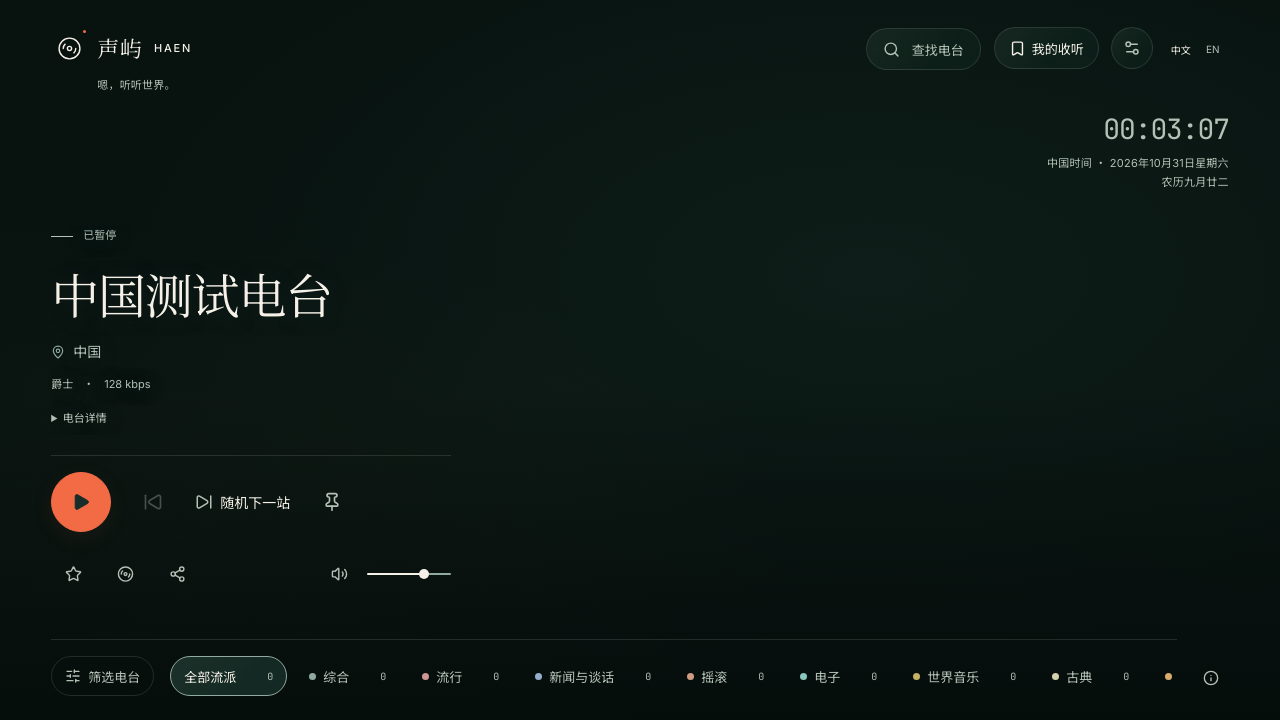
Test: radio application entry › preselects a random China station on a fresh entry without autoplay, including strict replay
Expected: the heading "中国测试电台" is shown, [51,259,332,328]
Expected: the message reads "已暂停", [83,228,116,242]
Click the button named "播放" at (81,502), box [51,472,111,532]
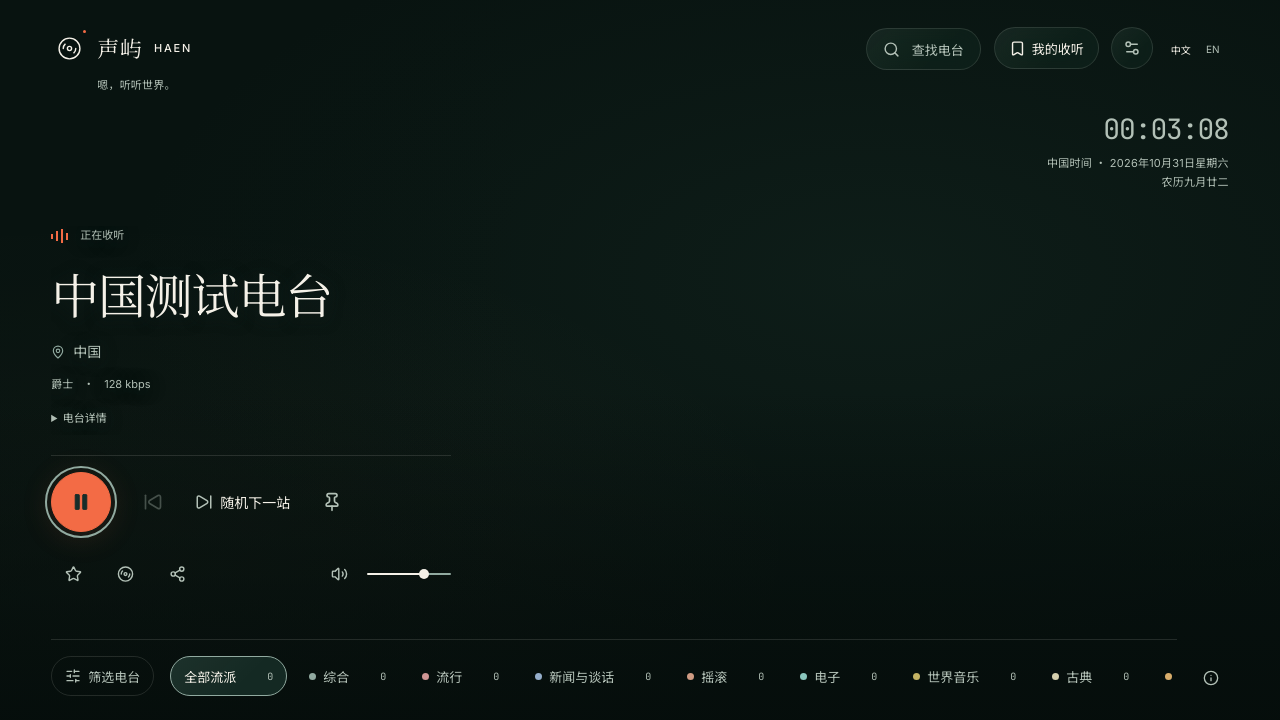
Expected: the heading "中国测试电台" is shown, [51,259,332,328]
Result: the message reads "正在收听" at [80,228,124,242]
